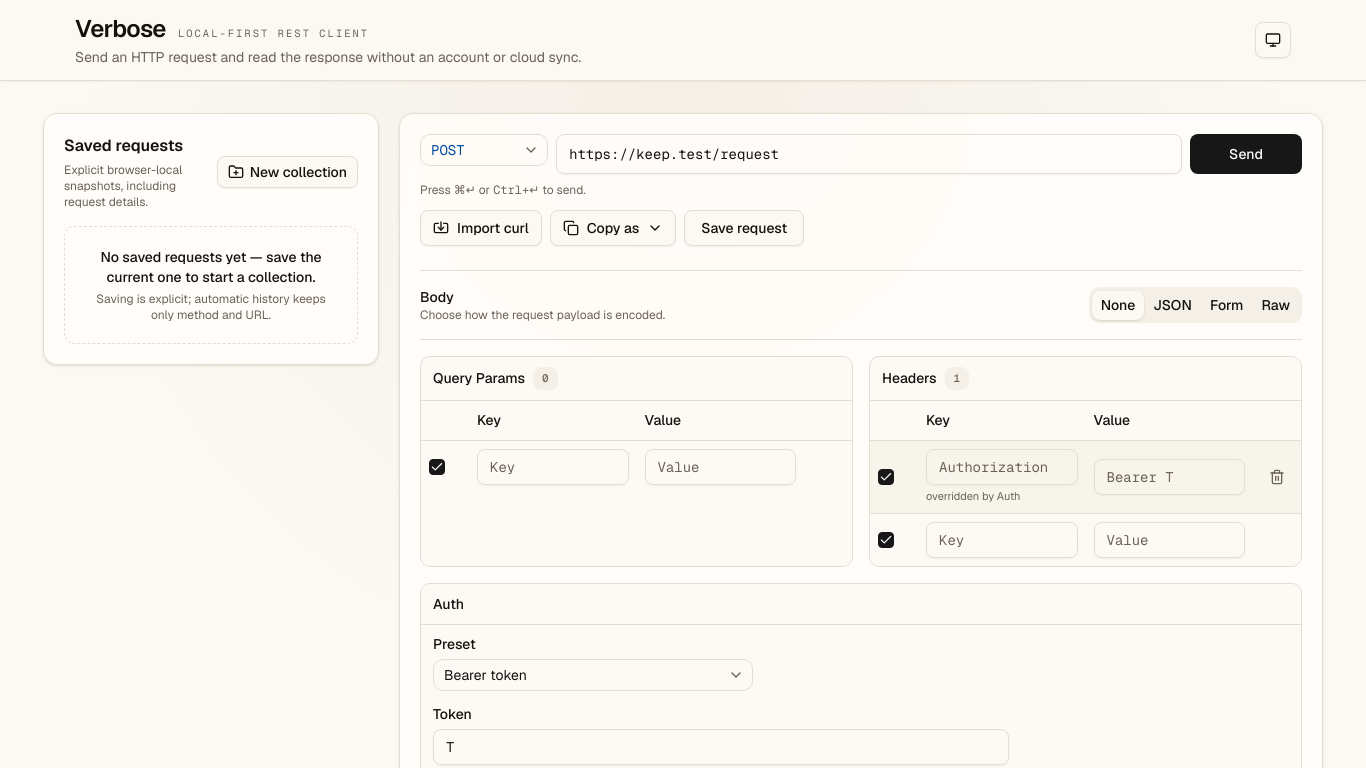
surfaces a saved-request write failure and preserves the workbench
This screenshot has width=1366, height=768.
Click the button "Save request": (744, 228) [684, 210, 804, 246]
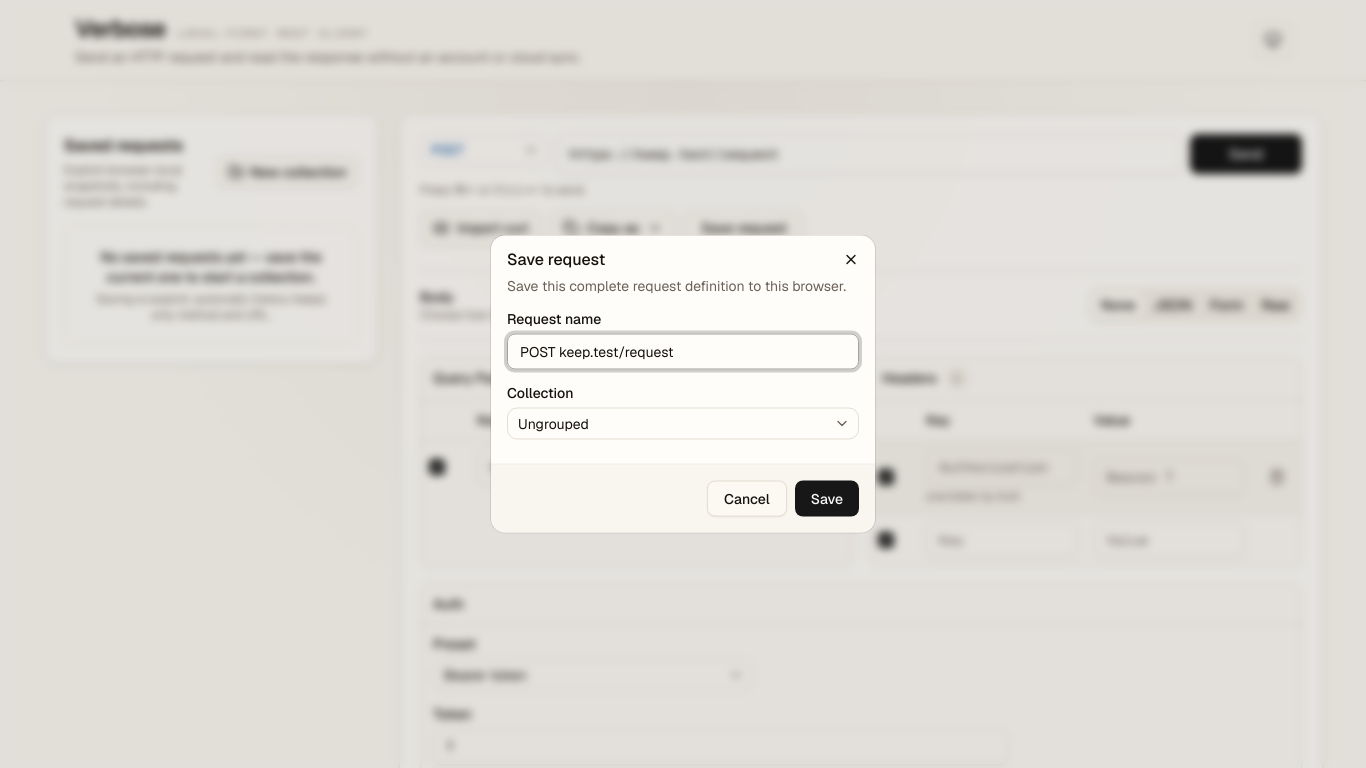
Click the button "Save": (827, 498) [795, 480, 859, 516]
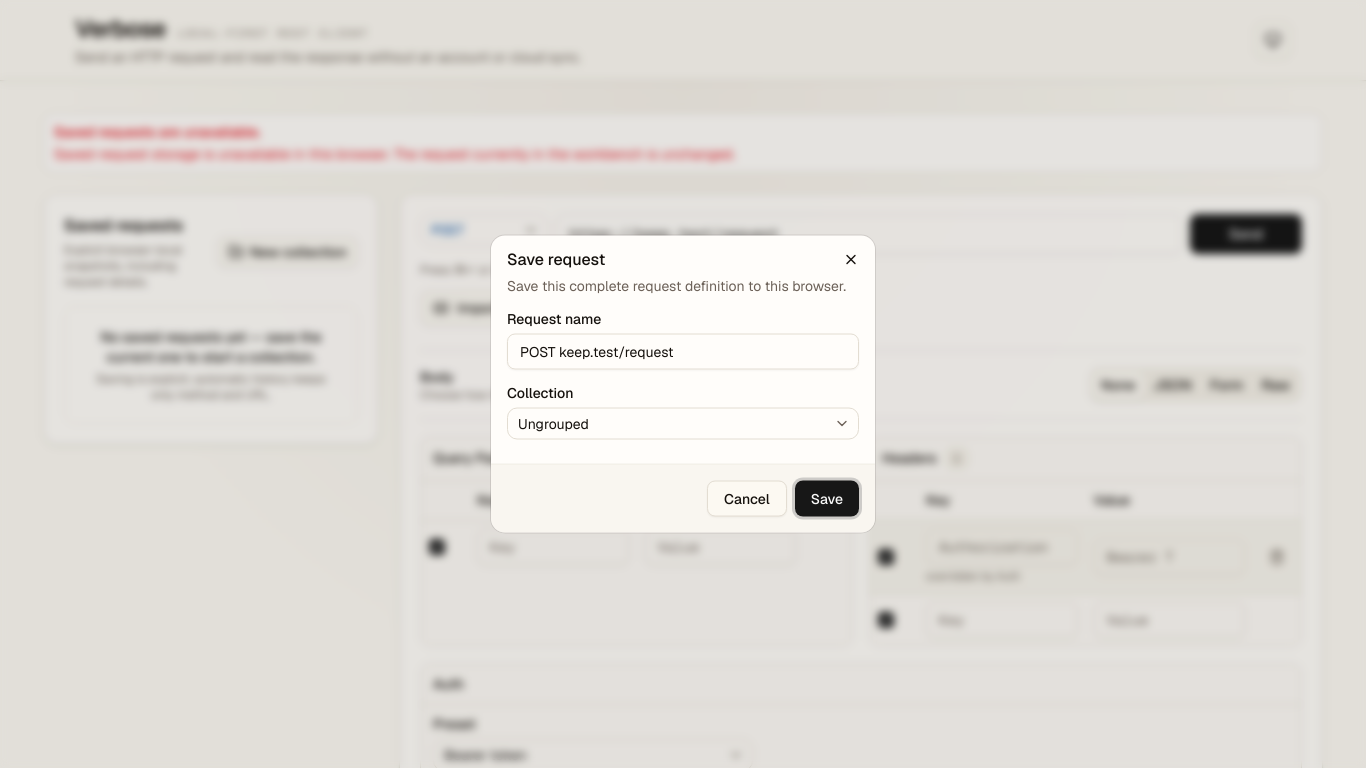
expect the dialog "Save request" is shown: met, box [491, 236, 875, 532]
expect the text "Saved requests are unavailable." is shown: met, box [54, 123, 261, 141]
